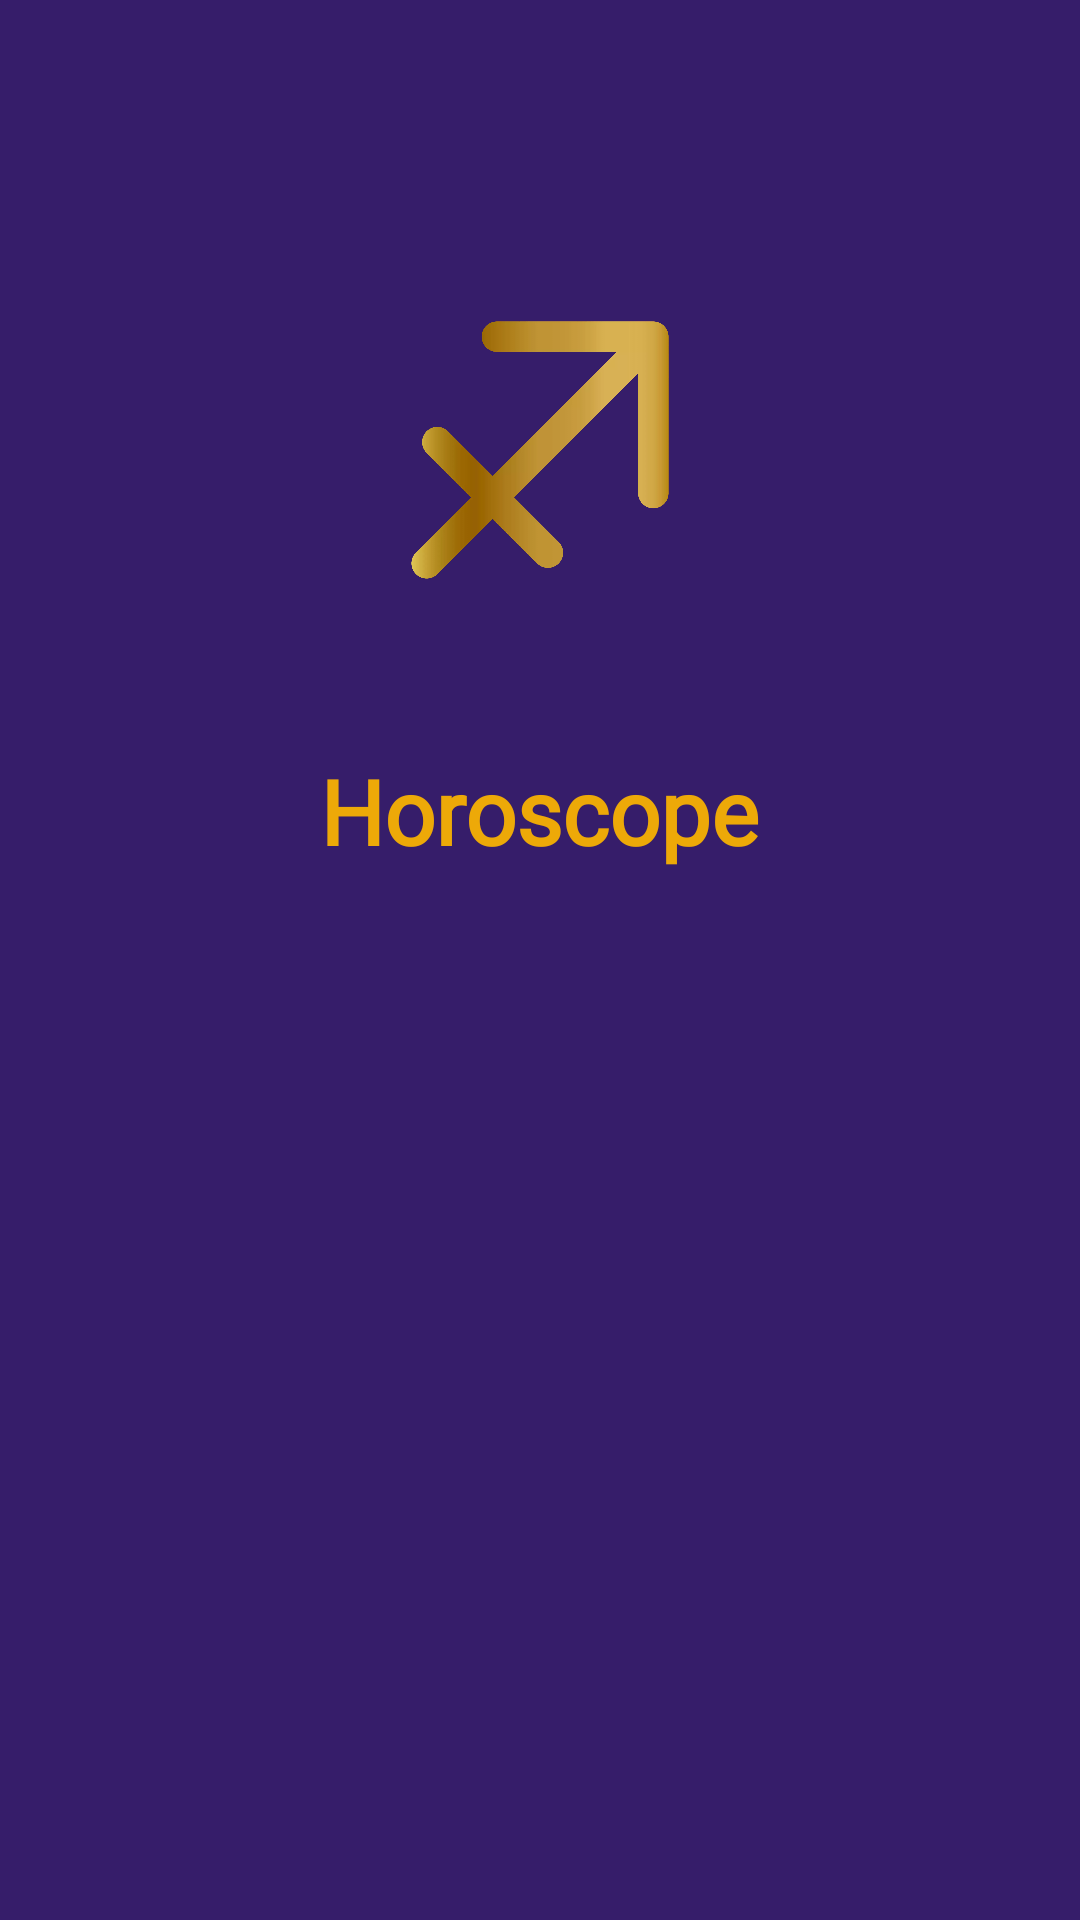

Where to tap for icons on this 1080px×1920px app screen, as point (x, y):
sagittarius sign: point (540, 450)
